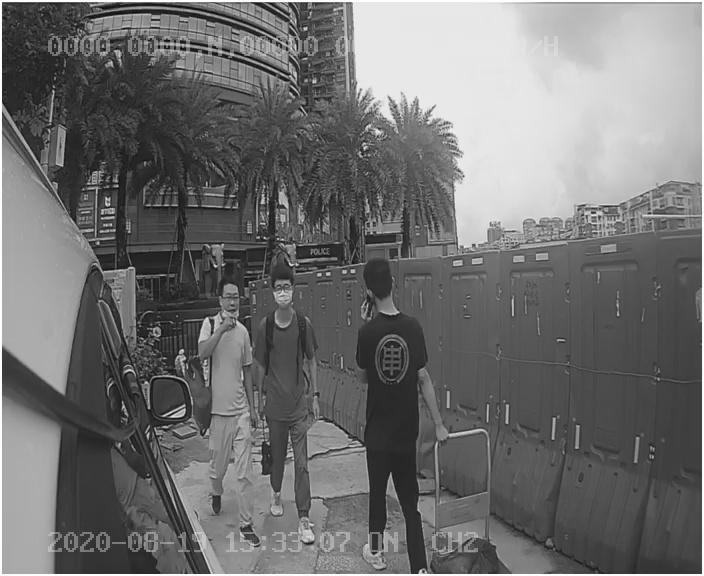person: (337, 260, 455, 526), (192, 285, 274, 527), (255, 281, 333, 534)
